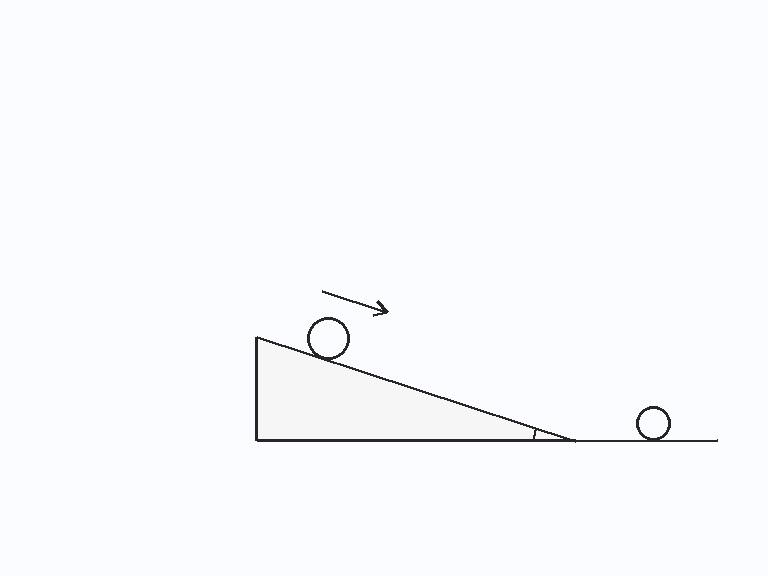ball: (305, 315, 351, 361), (634, 404, 672, 442)
ramp: (254, 335, 576, 442)
